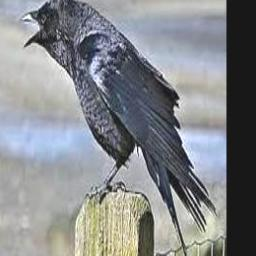Crow: (20, 0, 217, 256)
